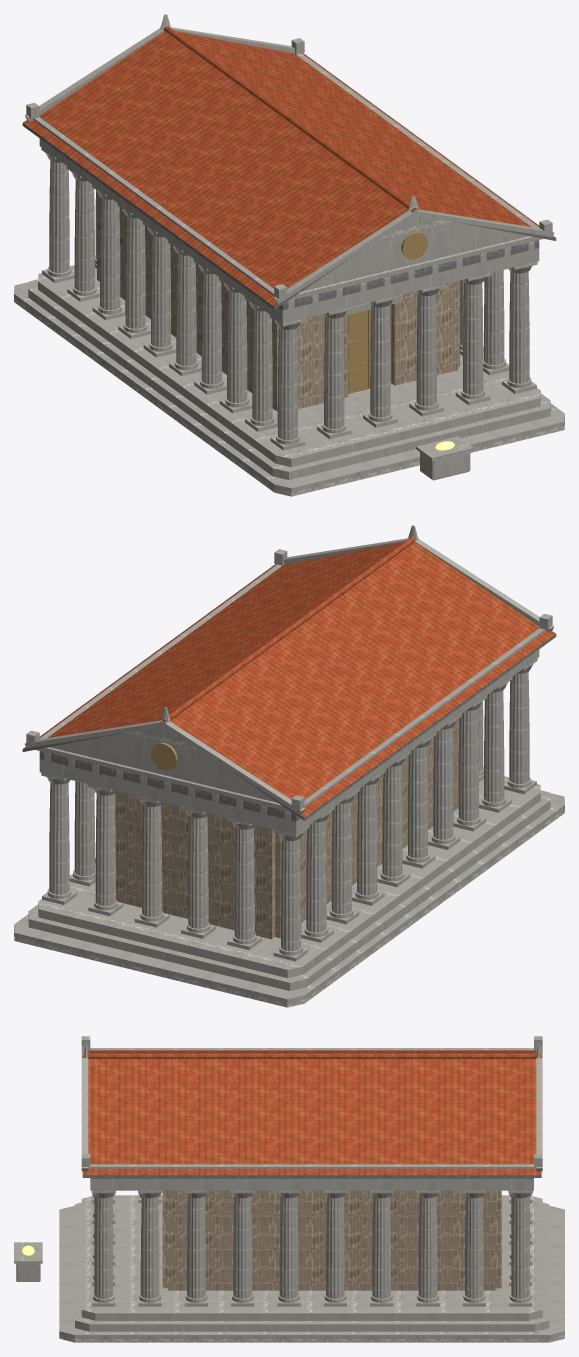
Rendered from temple.glb.
3 views of the same model, one above another, from view 1: azimuth 30°, elevation 25°; view 2: azimuth 150°, elevation 25°; view 3: azimuth 270°, elevation 25° (orthographic). The views are drawn at different scales.
Visible parts, largest first — view 1: box; view 2: box; view 3: box.
Part boxes in pixels (x1,y1,x2,y2): box: (14, 14, 564, 496); box: (14, 525, 564, 1007); box: (14, 1036, 564, 1342).
Bounding box in the file's own units: 12.44 × 10.5 × 22.4.
6 materials, 4 textured.
